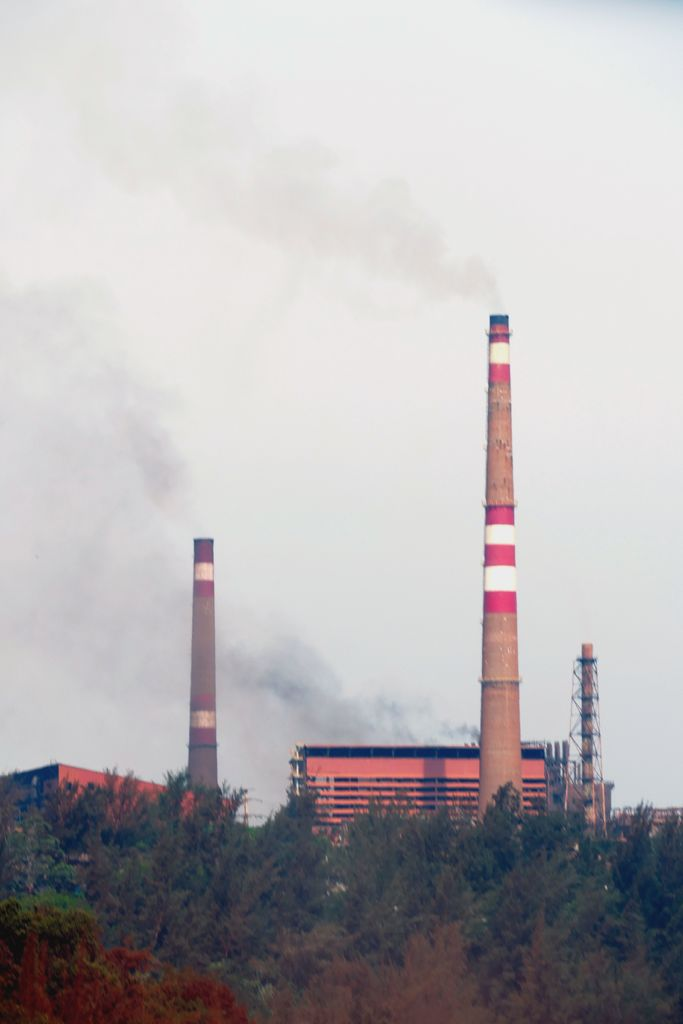Tree: (0, 762, 683, 1024)
